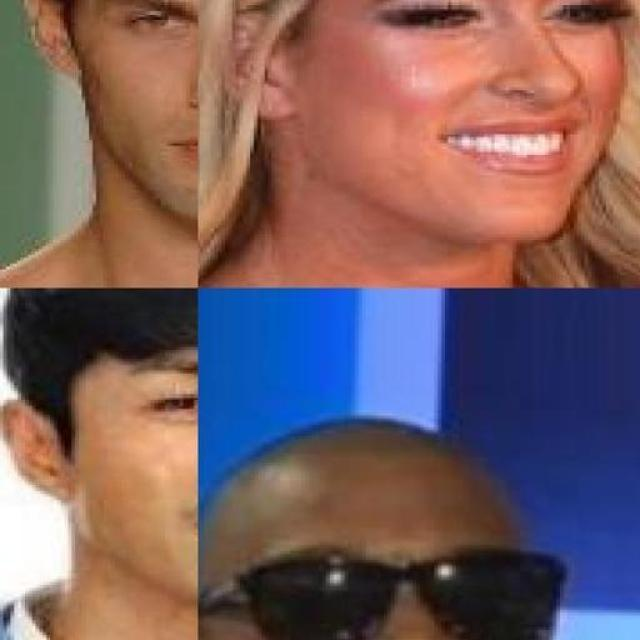bareface: (213, 0, 640, 254)
